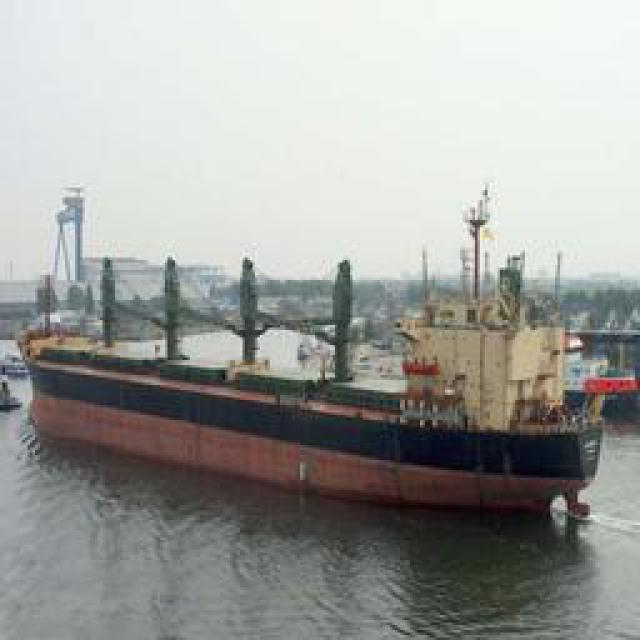Ship: (5, 273, 613, 531)
